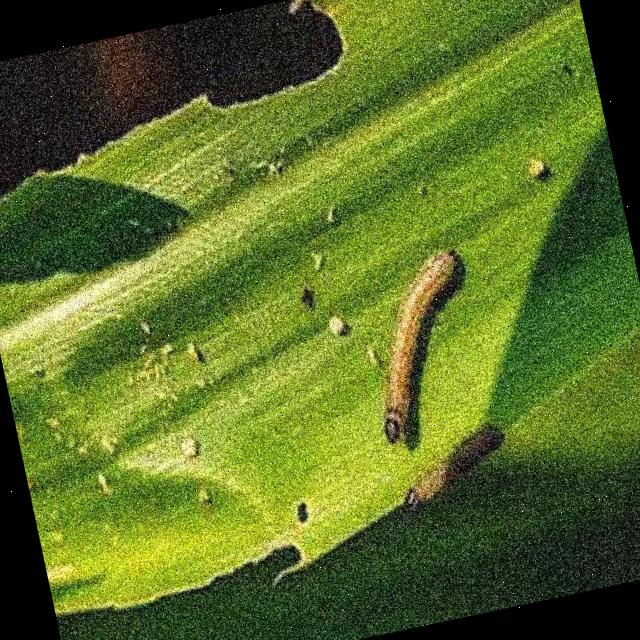worm: (350, 245, 500, 447)
